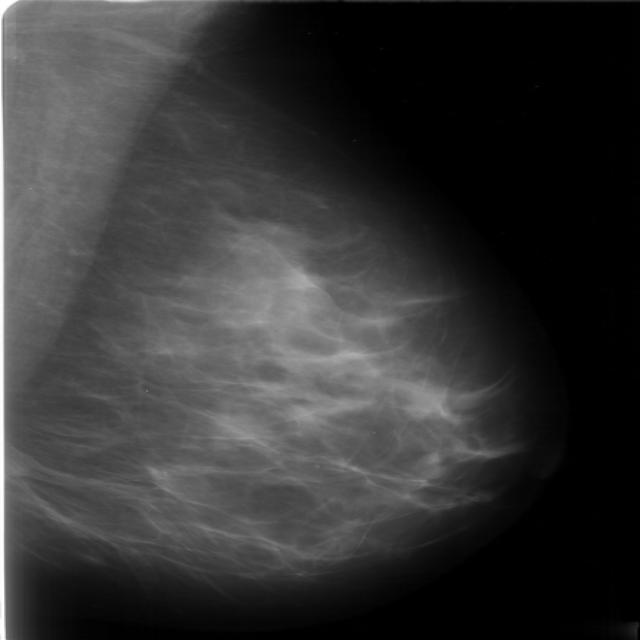tumour: (3, 444, 39, 480)
